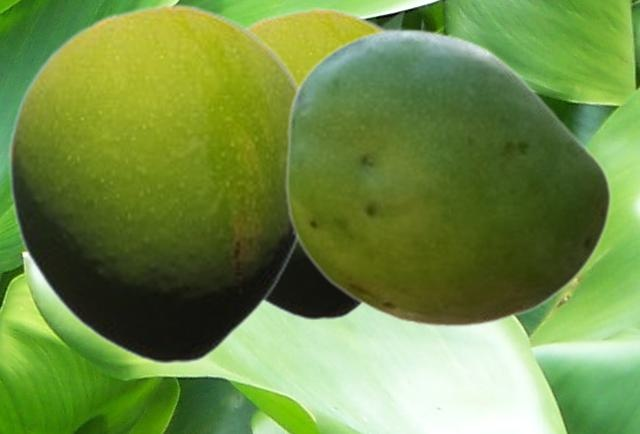green_mango: (7, 3, 299, 365), (284, 27, 611, 328), (244, 7, 390, 321)
